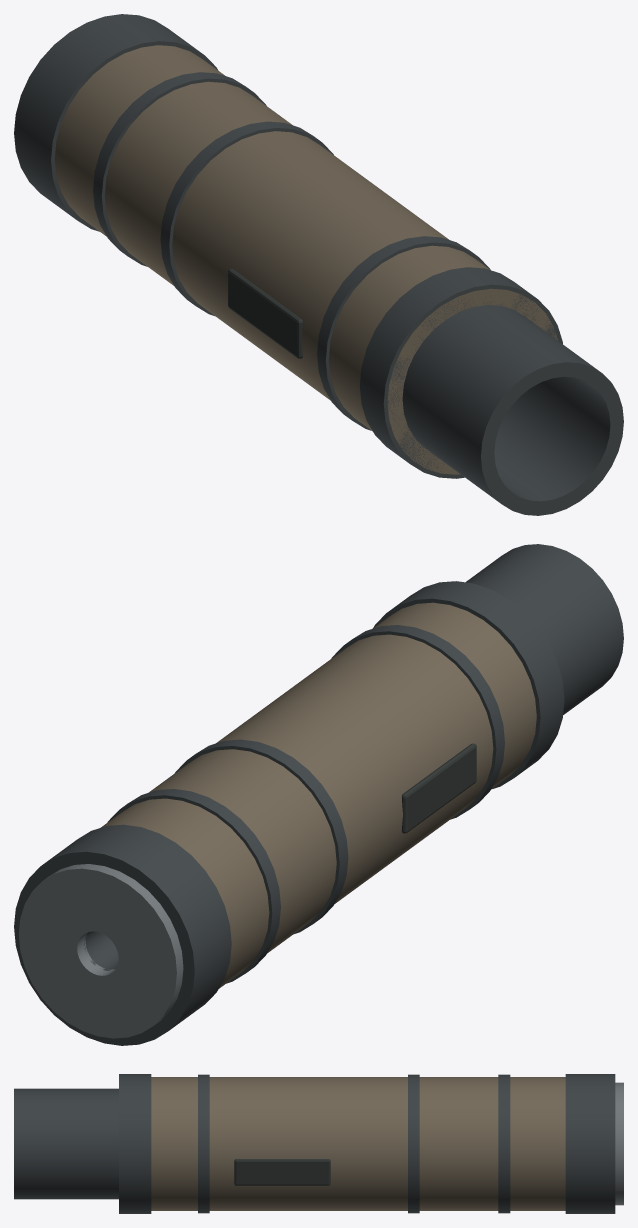
Rendered from suppressor.glb.
The picture shows the model from 3 angles, top to bottom: view 1: azimuth 30°, elevation 25°; view 2: azimuth 150°, elevation 25°; view 3: azimuth 270°, elevation 25°; orthographic projection. The views are drawn at different scales.
Visible parts, largest first — view 1: suppressor_Bronze_body, suppressor_metal, suppressor_polymer; view 2: suppressor_Bronze_body, suppressor_metal, suppressor_Crown_edge, suppressor_polymer; view 3: suppressor_Bronze_body, suppressor_metal, suppressor_polymer, suppressor_Crown_edge.
Boxes of the visible parts, <box> form: suppressor_Bronze_body: <box>54,45,558,474</box>; suppressor_metal: <box>14,14,623,515</box>; suppressor_polymer: <box>228,268,302,358</box>; suppressor_Bronze_body: <box>101,602,536,988</box>; suppressor_metal: <box>14,544,623,1045</box>; suppressor_Crown_edge: <box>18,864,183,1038</box>; suppressor_polymer: <box>401,743,476,833</box>; suppressor_Bronze_body: <box>151,1077,565,1210</box>; suppressor_metal: <box>14,1074,615,1213</box>; suppressor_polymer: <box>234,1159,330,1185</box>; suppressor_Crown_edge: <box>615,1082,623,1205</box>.
Bounding box in the file's own units: 0.048 × 0.048 × 0.209.
